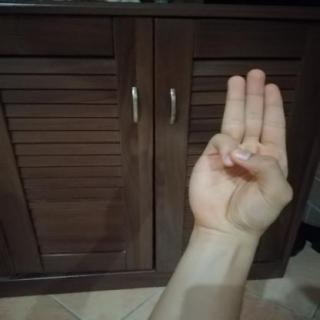THA: (173, 60, 305, 242)
